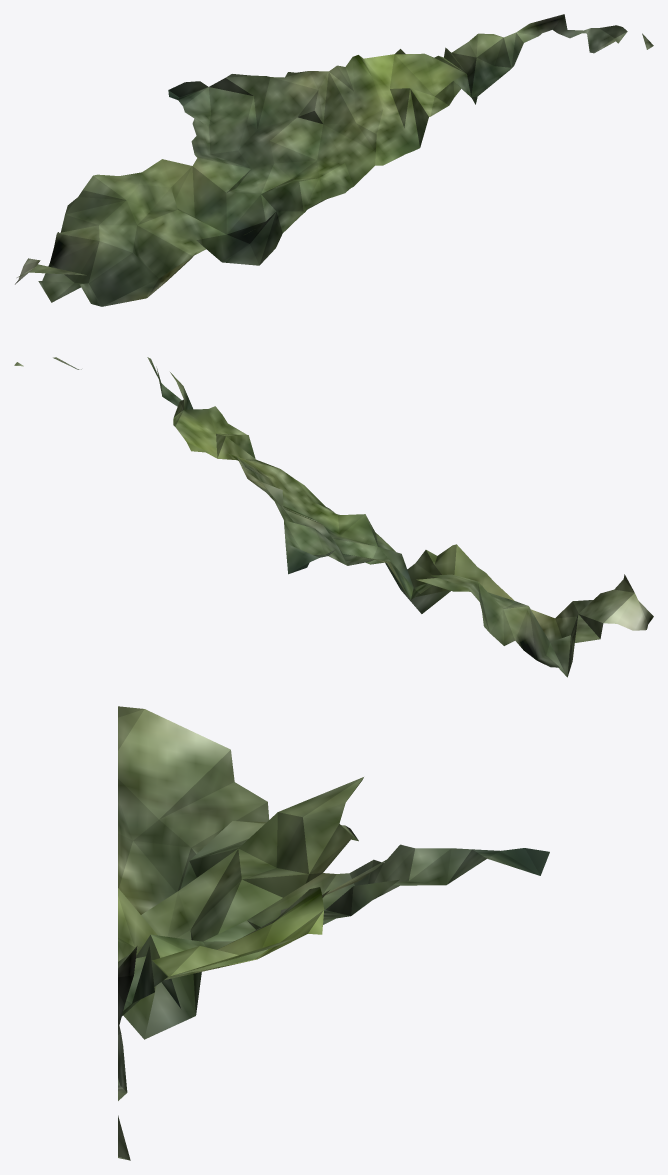
3 renders of one model, top to bottom at view 1: azimuth 30°, elevation 25°; view 2: azimuth 150°, elevation 25°; view 3: azimuth 270°, elevation 25°, orthographic. The views are drawn at different scales.
Bounding box in the file's own units: 470 × 140 × 140.
Materials: 1 (1 with a texture image).
